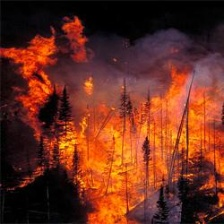fire: (10, 39, 224, 221)
